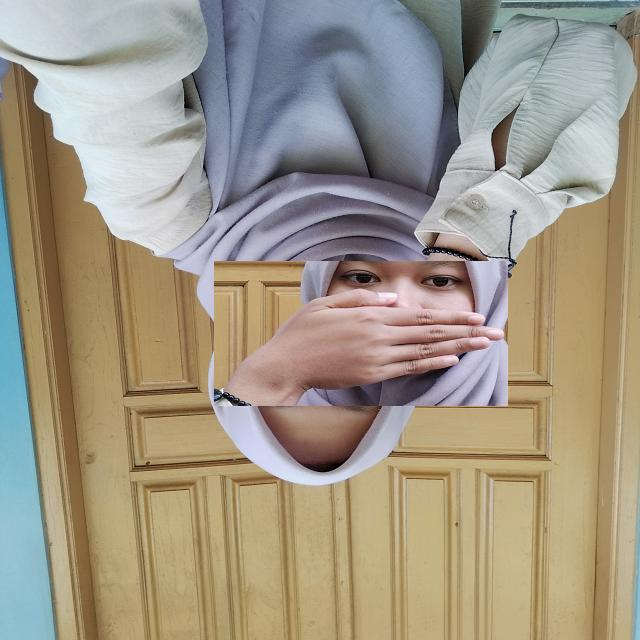buruk: (214, 261, 509, 407)
